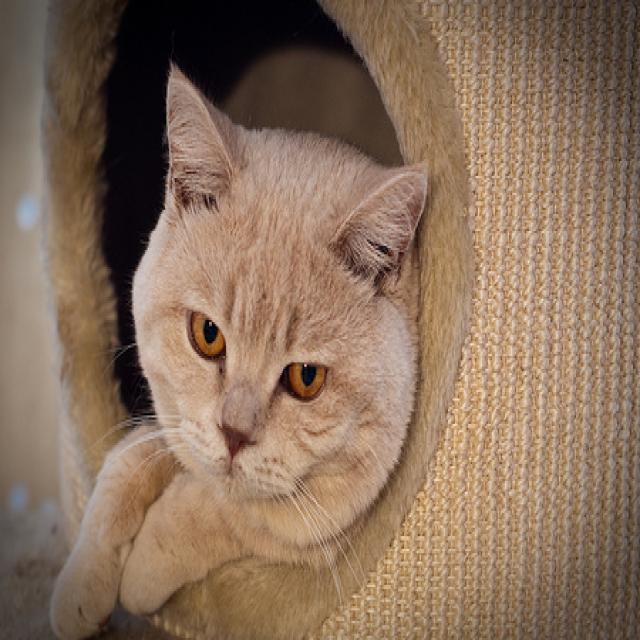British Shorthair: (45, 59, 431, 640)
